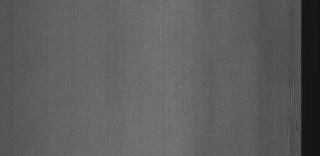silk spot: (279, 70, 299, 154)
